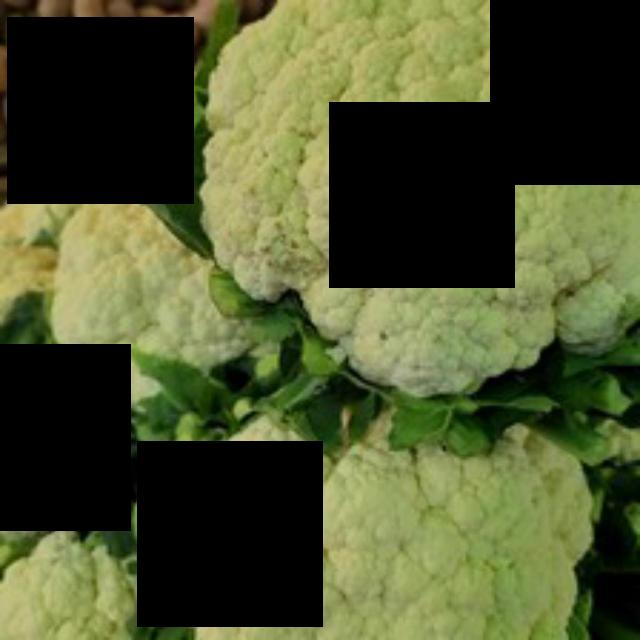cauliflower: (184, 0, 640, 406)
